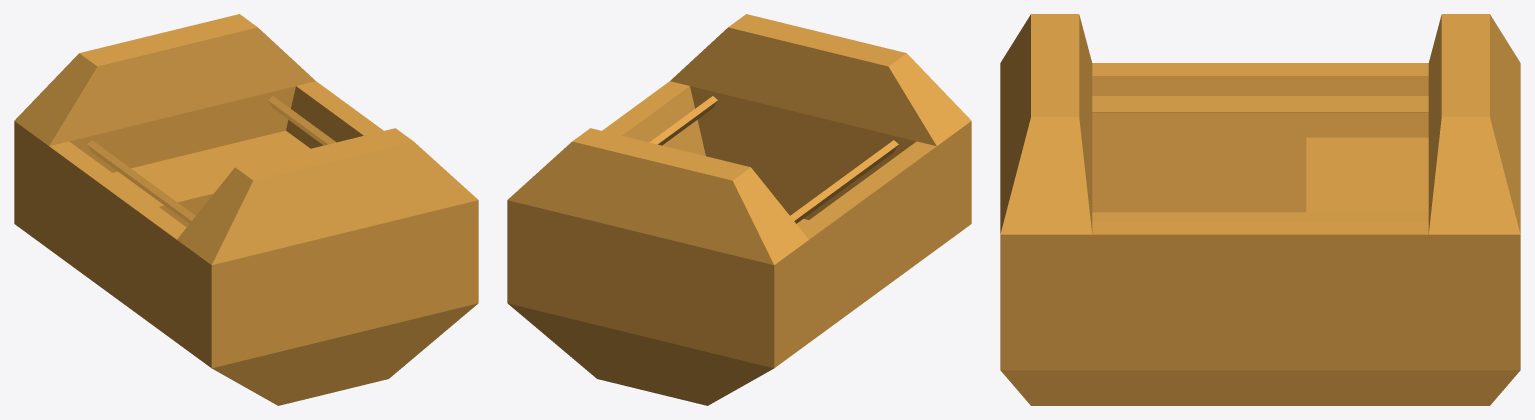
Rendered from water-ride-cart.glb.
3 views of the same model, side by side, from view 1: azimuth 30°, elevation 25°; view 2: azimuth 150°, elevation 25°; view 3: azimuth 270°, elevation 25° (orthographic). The views are drawn at different scales.
Parts seen in each view (by area): view 1: water-ride-cart; view 2: water-ride-cart; view 3: water-ride-cart.
Boxes of the visible parts, x1,y1,x2,y2 form: water-ride-cart: [14, 14, 478, 405]; water-ride-cart: [507, 14, 971, 405]; water-ride-cart: [1000, 14, 1520, 405].
Bounding box in the file's own units: 1.33 × 1.1 × 1.7.
